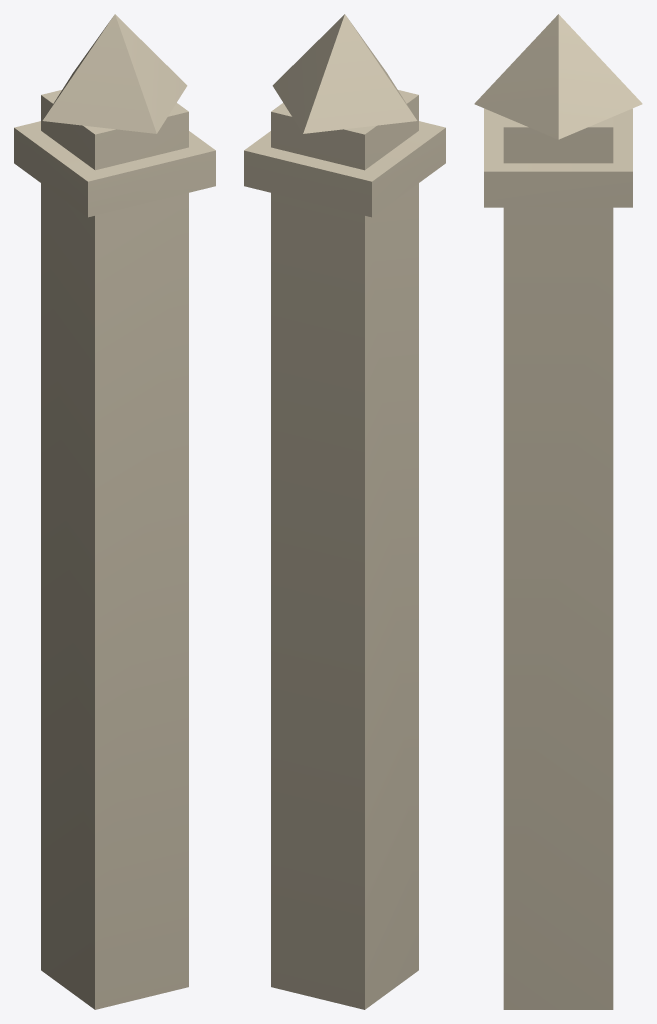
The model's file is fence_picket_post.glb.
The picture shows the model from 3 angles, left to right: view 1: azimuth 30°, elevation 25°; view 2: azimuth 150°, elevation 25°; view 3: azimuth 270°, elevation 25°; orthographic projection.
Visible parts, largest first — view 1: fence_picket_post; view 2: fence_picket_post; view 3: fence_picket_post.
Boxes of the visible parts, x1,y1,x2,y2 form: fence_picket_post: (14,14,215,1009); fence_picket_post: (244,14,445,1009); fence_picket_post: (474,14,642,1009).
Size of the model in its own units: 0.17 by 1.08 by 0.17.
